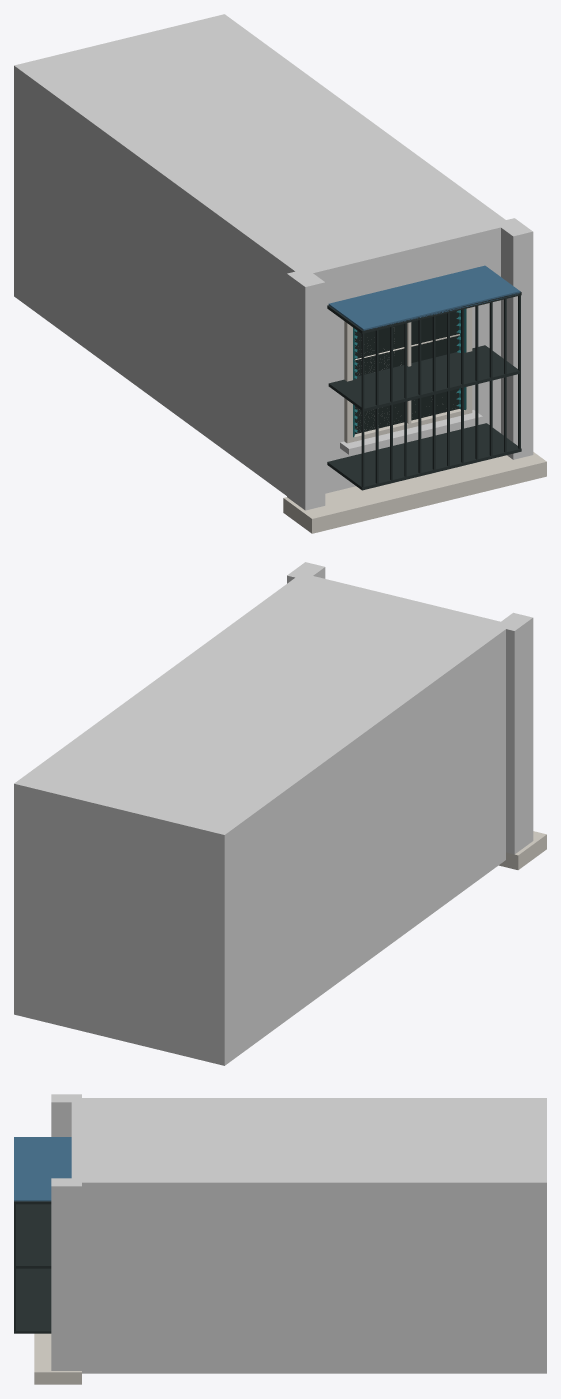
Rendered from lau_chuong_cop_32.glb.
3 renders of one model, top to bottom at view 1: azimuth 30°, elevation 25°; view 2: azimuth 150°, elevation 25°; view 3: azimuth 270°, elevation 25°, orthographic. The views are drawn at different scales.
Visible parts, largest first — view 1: lau_chuong_cop_32; view 2: lau_chuong_cop_32; view 3: lau_chuong_cop_32.
Part boxes in pixels (left/top/right/bottom): lau_chuong_cop_32: left=14, top=14, right=546, bottom=533; lau_chuong_cop_32: left=14, top=562, right=546, bottom=1065; lau_chuong_cop_32: left=14, top=1094, right=546, bottom=1384.
Bounding box in the file's own units: 3.3 × 3.2 × 7.85.
